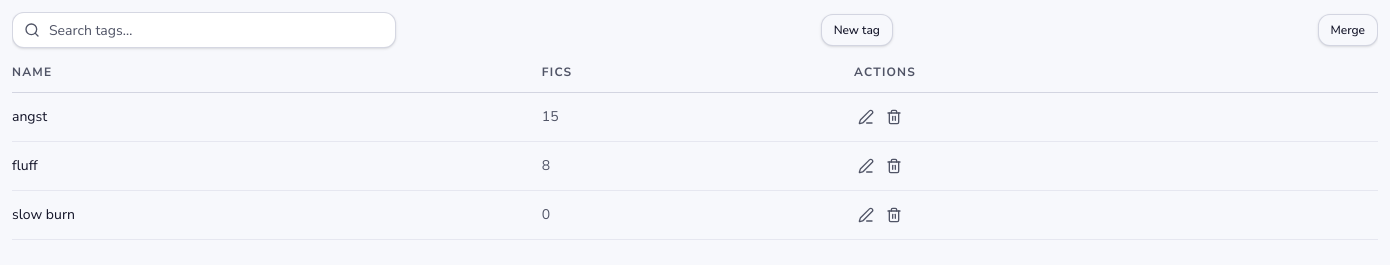
it: TagsSection › enters inline rename mode on edit click
Expected: the text "angst" is shown, [12,107,47,126]
Click the button named "Rename tag" in the row of "angst" at (866, 117), box [854,105,878,129]
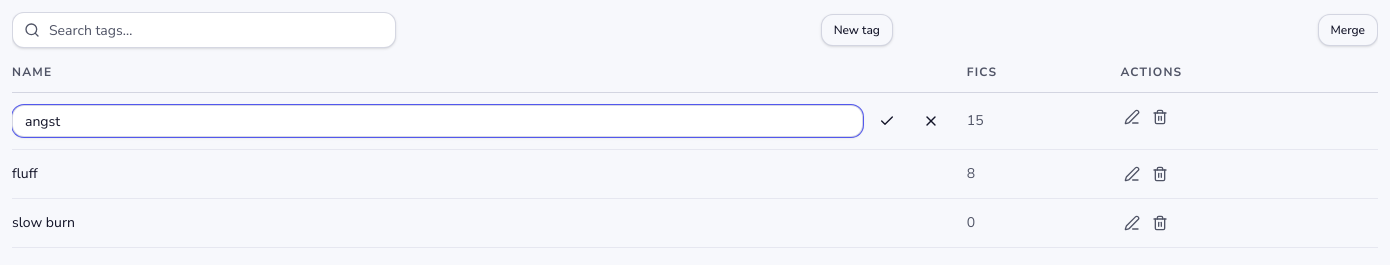
Result: the field showing "angst" is shown at [12,105,863,137]
Result: the button named "Confirm rename" is shown at [867,105,907,137]
Result: the button named "Cancel rename" is shown at [911,105,951,137]
